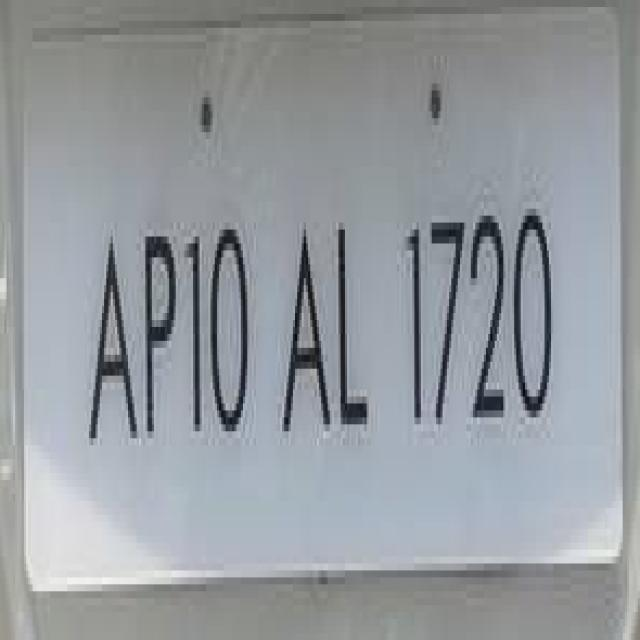plate: (2, 14, 614, 584)
